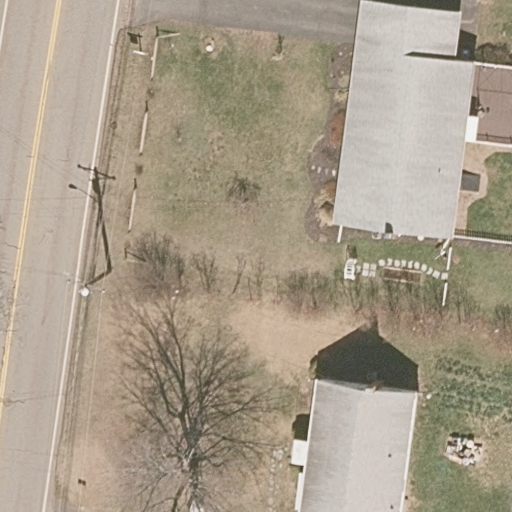DT: (62, 266, 112, 299)
